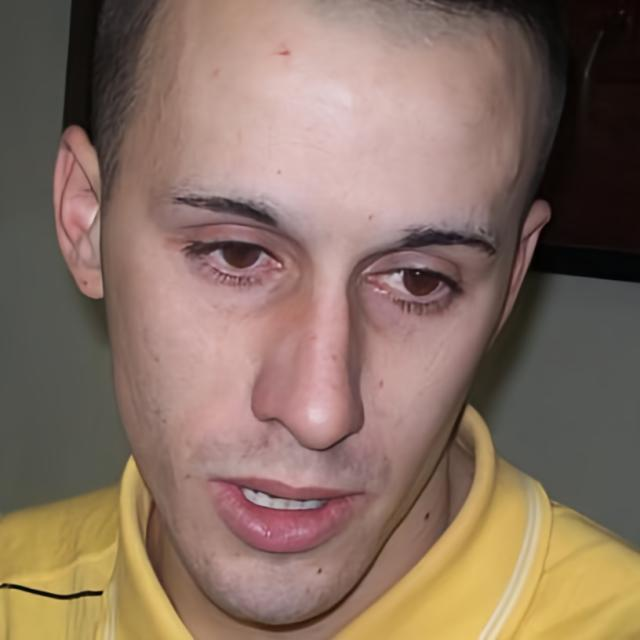sad: (105, 2, 555, 630)
